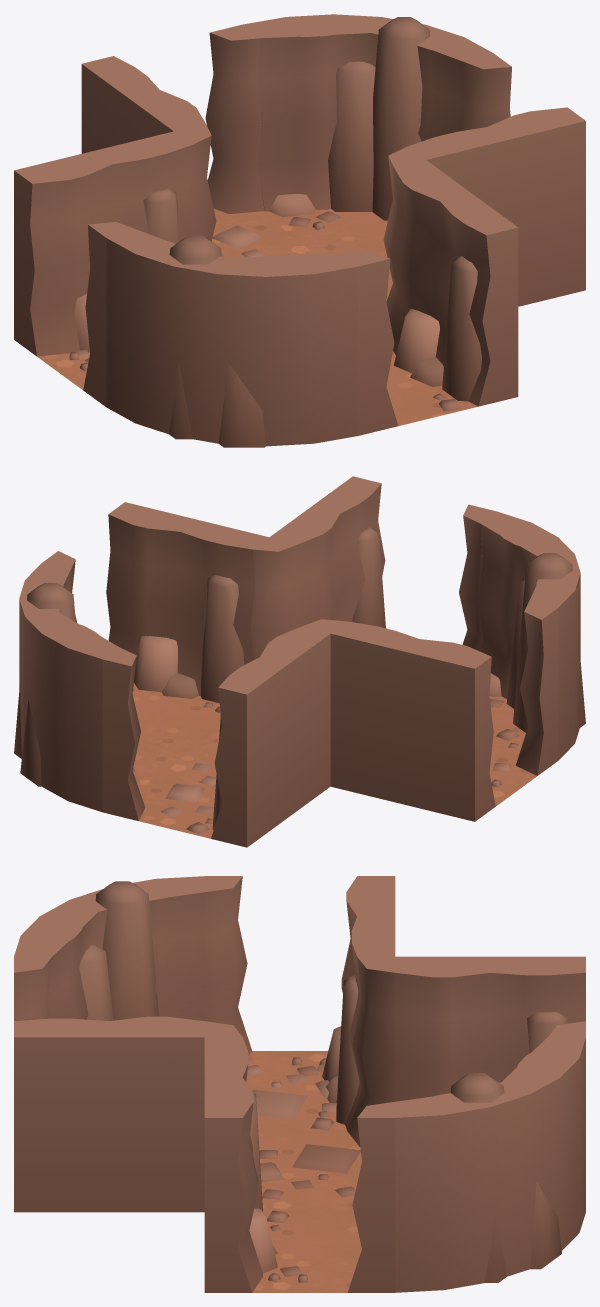
Rendered from room_small_variation.glb.
3 renders of one model, top to bottom at view 1: azimuth 30°, elevation 25°; view 2: azimuth 150°, elevation 25°; view 3: azimuth 270°, elevation 25°, orthographic. The views are drawn at different scales.
Parts seen in each view (by area): view 1: room-small-variation; view 2: room-small-variation; view 3: room-small-variation.
Part boxes in pixels (<box>): room-small-variation: <box>14,14,585,447</box>; room-small-variation: <box>14,476,585,847</box>; room-small-variation: <box>14,876,585,1292</box>.
Bounding box in the file's own units: 12 × 4.4 × 12.
1 material, 1 textured.
